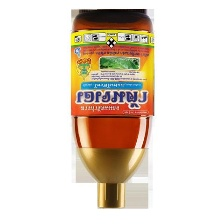insecticide: (65, 7, 157, 213)
